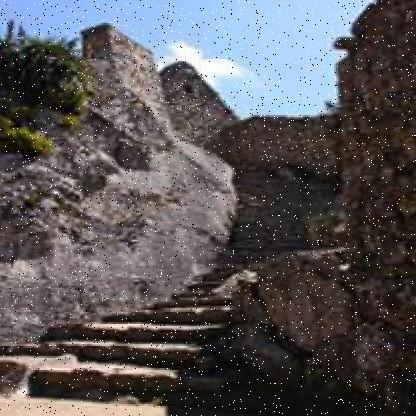stair_up: (17, 246, 242, 396)
